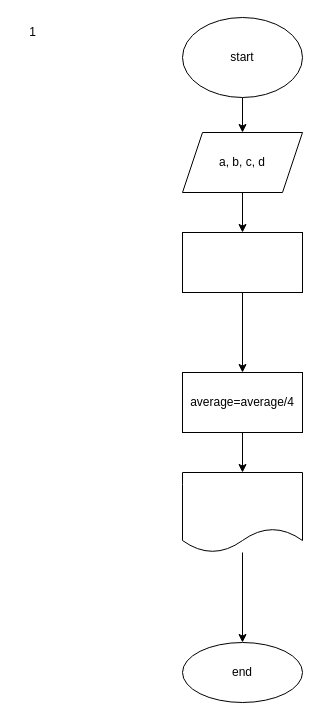
The diagram is 320 pixels wide and 720 high, and some of its shapes have lost their labels. The shapes that lost their labels are listed below. From the top down, each one's box as (x1, y1, x2, y2) in pixels, then its label:
(182, 232, 302, 292): average=a+b+c+d
(182, 472, 302, 552): print average
